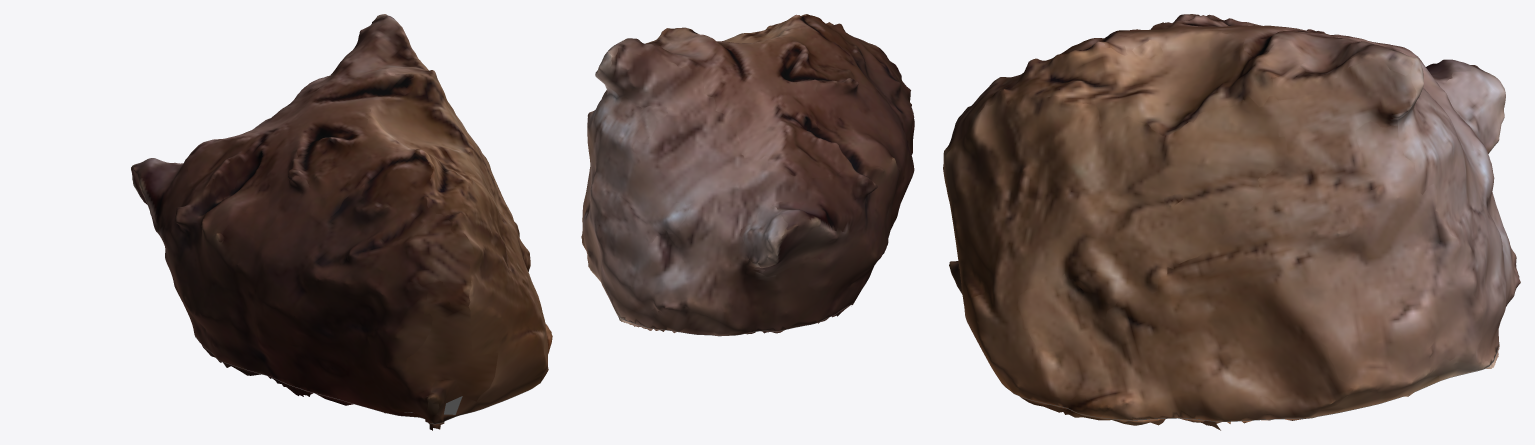
File: hannah.glb
3 renders of one model, left to right at view 1: azimuth 30°, elevation 25°; view 2: azimuth 150°, elevation 25°; view 3: azimuth 270°, elevation 25°, orthographic. The views are drawn at different scales.
Parts seen in each view (by area): view 1: mesh.001; view 2: mesh.001; view 3: mesh.001.
Part boxes in pixels (x1,y1,x2,y2): mesh.001: [131, 14, 552, 430]; mesh.001: [581, 14, 914, 336]; mesh.001: [943, 14, 1520, 430].
Bounding box in the file's own units: 0.0892 × 0.067 × 0.0872.
Materials: 1 (1 with a texture image).
